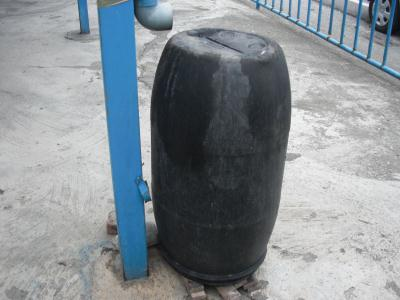bucket: (145, 22, 295, 286)
